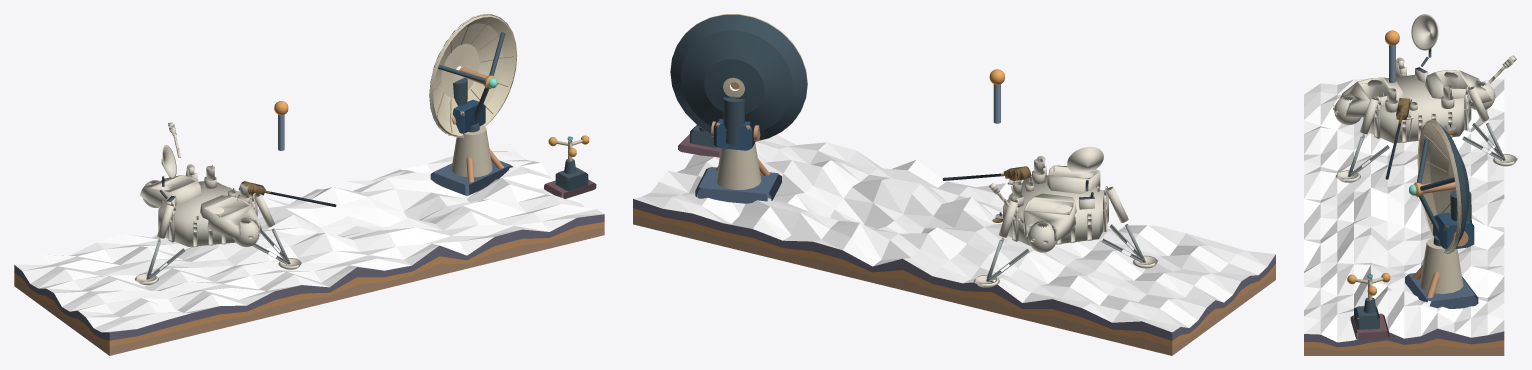
The model's file is apolo-intrepid.obj.
3 renders of one model, left to right at view 1: azimuth 30°, elevation 25°; view 2: azimuth 150°, elevation 25°; view 3: azimuth 270°, elevation 25°, orthographic. The views are drawn at different scales.
Visible parts, largest first — view 1: apolo-intrepid; view 2: apolo-intrepid; view 3: apolo-intrepid.
Part boxes in pixels (x1,y1,x2,y2): apolo-intrepid: [14, 14, 604, 355]; apolo-intrepid: [633, 14, 1275, 355]; apolo-intrepid: [1304, 14, 1517, 355].
Bounding box in the file's own units: 1.68 × 0.584 × 0.5764.
